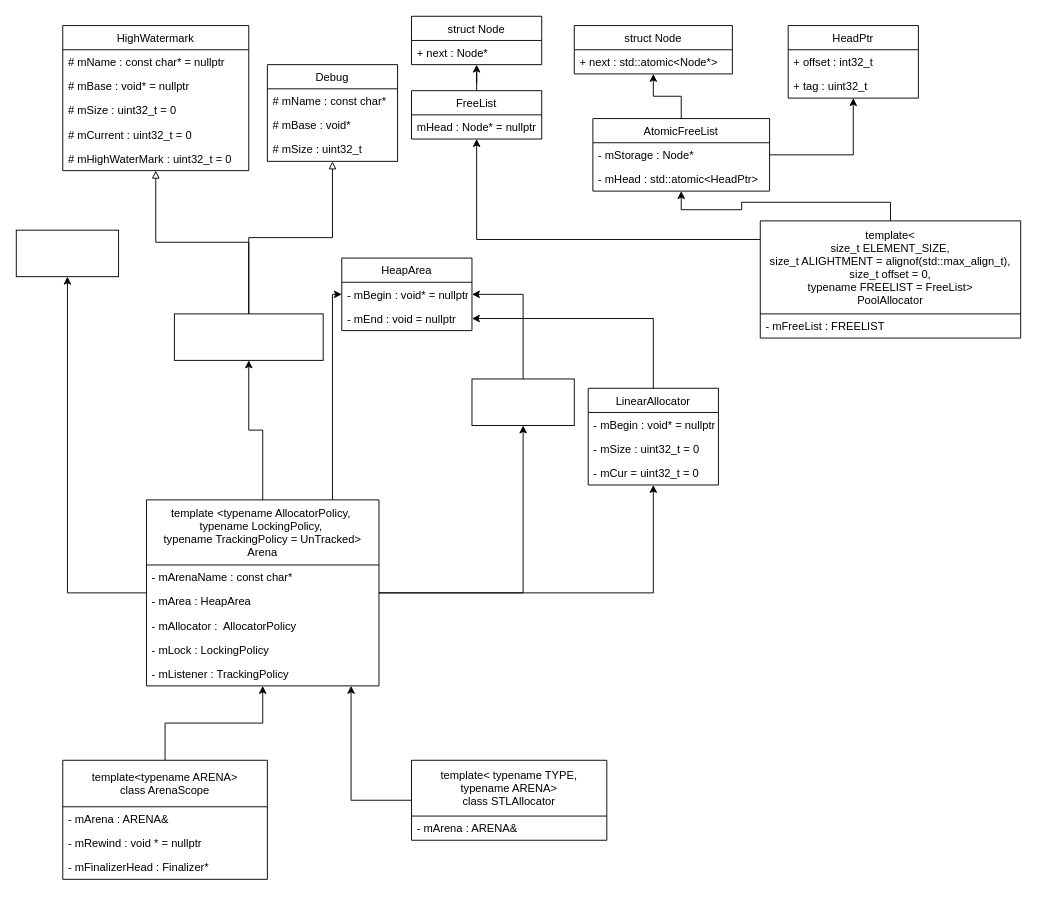
The diagram is 1037 pixels wide and 898 high, and some of its shapes have lost their labels. The centre of each missing label's shape, as x and y in pixels:
DebugAndHighWaterMark: point (248, 336)
HeapAllocator: point (522, 401)
Untracked: point (67, 253)
